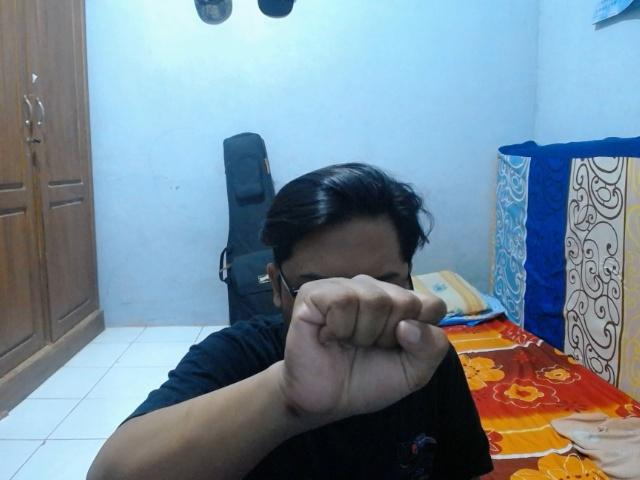Grab: (279, 271, 457, 424)
